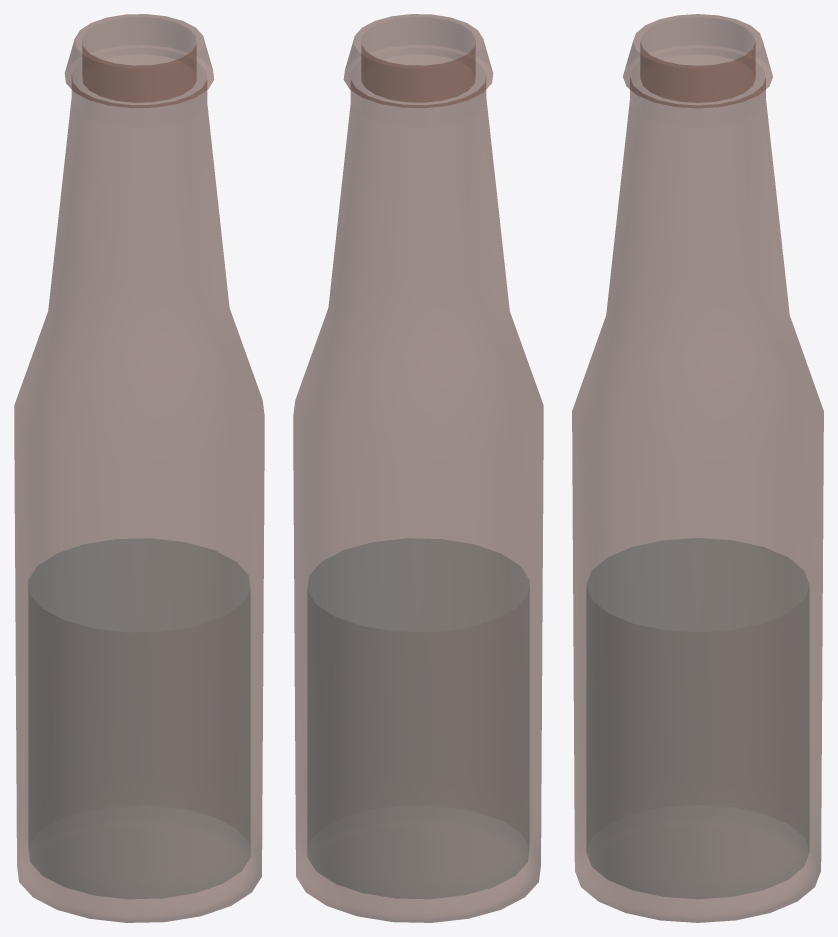
File: GlassBottle 1.fbx
3 views of the same model, side by side, from view 1: azimuth 30°, elevation 25°; view 2: azimuth 150°, elevation 25°; view 3: azimuth 270°, elevation 25° (orthographic).
Visible parts, largest first — view 1: pasted__GlassBottle; view 2: pasted__GlassBottle; view 3: pasted__GlassBottle.
Boxes of the visible parts, box(x1,y1,x2,y2) form: pasted__GlassBottle: box(14, 14, 264, 922); pasted__GlassBottle: box(293, 14, 543, 922); pasted__GlassBottle: box(572, 14, 823, 922).
Bounding box in the file's own units: 8.08 × 29.37 × 8.08.
